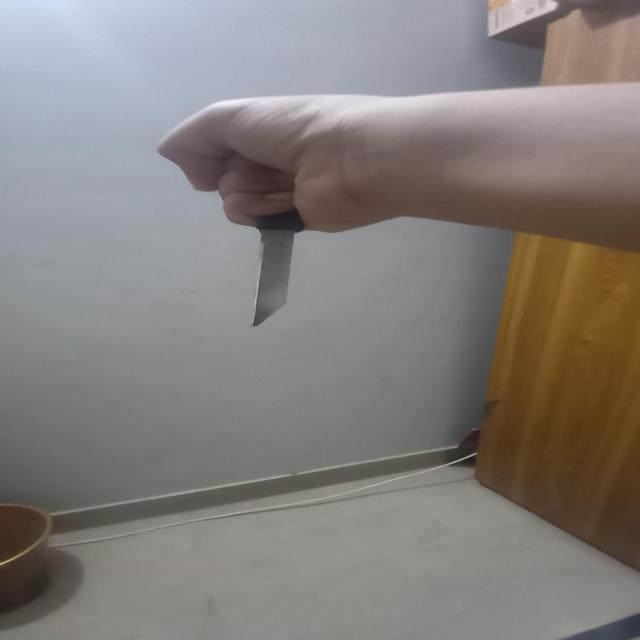faca: (254, 205, 306, 328)
